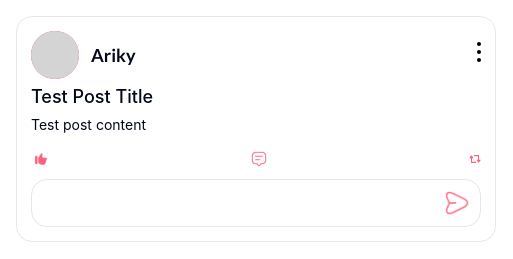
Test: PostCard › Options menu › should show delete option on non-trending page
Click the element with test id "options-icon". click: (479, 52)
box: [477, 42, 481, 62]
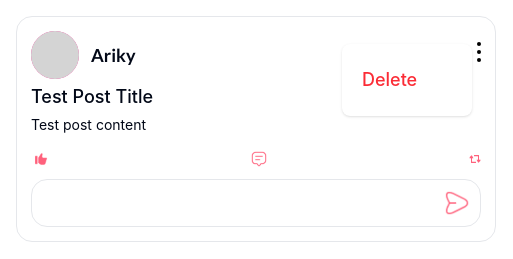
Expected: the text "delete" is shown, [362, 69, 417, 90]
